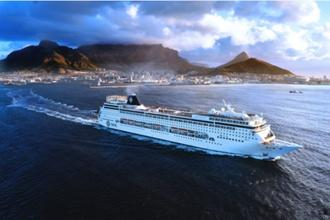youlun: (94, 90, 308, 161)
